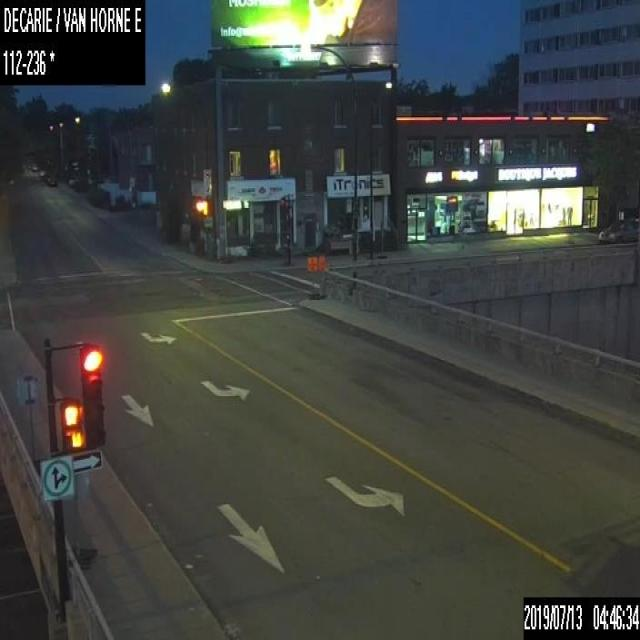construction: (64, 468, 97, 568), (15, 371, 44, 476), (304, 255, 319, 298), (318, 255, 326, 297)
vehicle: (596, 213, 639, 243), (47, 176, 57, 185), (31, 162, 36, 170), (38, 169, 44, 175)
